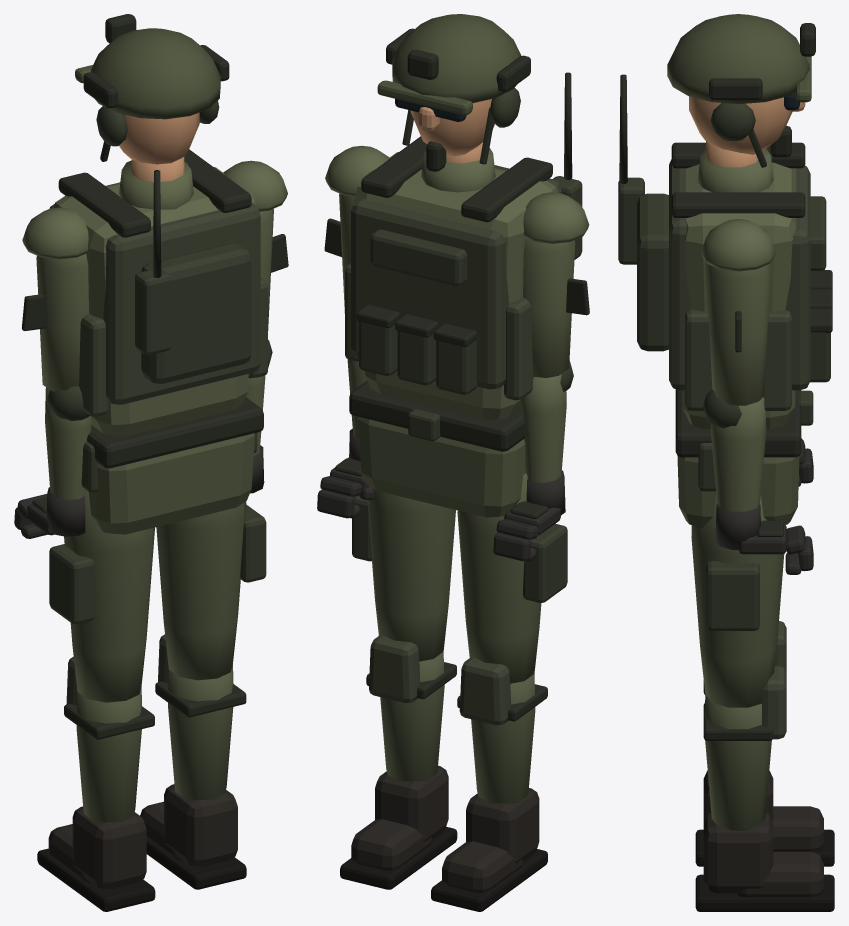
The model's file is soldier.glb.
The picture shows the model from 3 angles, left to right: view 1: azimuth 30°, elevation 25°; view 2: azimuth 150°, elevation 25°; view 3: azimuth 270°, elevation 25°; orthographic projection.
Visible parts, largest first — view 1: spine_vest, spine_pouch, thighR, thighL, pelvis, torso, neck_helmet, shinL, shinR, footL, footR, upperArmL (+22 smaller); view 2: spine_vest, thighR, pelvis, torso, spine_pouch, thighL, neck_helmet, spine_strap, footR, footL, upperArmL, shinL (+24 smaller); view 3: spine_vest, neck_helmet, thighR, spine_pouch, torso, upperArmR, footR, spine_strap, shinR, foreArmR, pelvis, hipR_pouch (+16 smaller).
Part boxes in pixels (bbox=[...]): spine_vest: bbox=[49, 203, 267, 416]; spine_pouch: bbox=[135, 243, 251, 383]; thighR: bbox=[156, 501, 246, 680]; thighL: bbox=[64, 490, 154, 702]; pelvis: bbox=[87, 433, 254, 534]; torso: bbox=[53, 160, 255, 436]; neck_helmet: bbox=[75, 28, 220, 119]; shinL: bbox=[76, 686, 141, 822]; shinR: bbox=[168, 664, 233, 800]; footL: bbox=[48, 806, 146, 889]; footR: bbox=[140, 784, 237, 866]; upperArmL: bbox=[36, 254, 88, 391]; spine_vest: bbox=[345, 165, 561, 400]; thighR: bbox=[367, 488, 455, 661]; pelvis: bbox=[358, 417, 525, 517]; torso: bbox=[354, 148, 557, 419]; spine_pouch: bbox=[359, 176, 582, 394]; thighL: bbox=[457, 473, 541, 683]; neck_helmet: bbox=[377, 14, 521, 115]; spine_strap: bbox=[356, 72, 572, 346]; footR: bbox=[351, 765, 448, 870]; footL: bbox=[442, 788, 539, 892]; upperArmL: bbox=[523, 238, 575, 377]; shinL: bbox=[471, 674, 535, 803]; spine_vest: bbox=[669, 159, 810, 410]; neck_helmet: bbox=[667, 14, 811, 104]; thighR: bbox=[691, 495, 784, 707]; spine_pouch: bbox=[618, 177, 830, 382]; torso: bbox=[681, 148, 796, 429]; upperArmR: bbox=[705, 262, 771, 405]; footR: bbox=[703, 813, 823, 897]; spine_strap: bbox=[619, 74, 832, 332]; shinR: bbox=[704, 694, 771, 830]; foreArmR: bbox=[710, 397, 766, 511]; pelvis: bbox=[677, 456, 799, 527]; hipR_pouch: bbox=[706, 561, 759, 630].
Bounding box in the file's own units: 0.5808 × 1.77 × 0.405.
